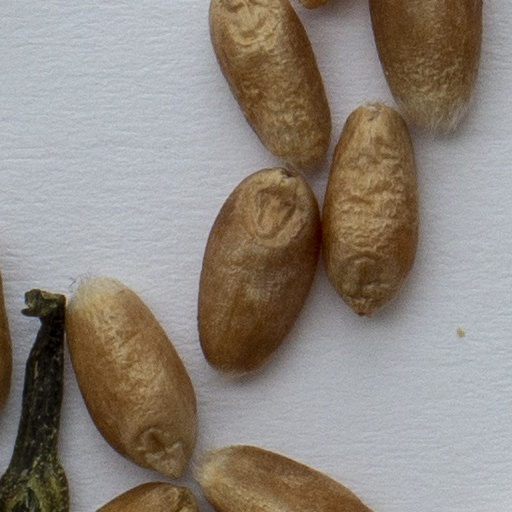Peel-poly: (0, 293, 68, 511)
